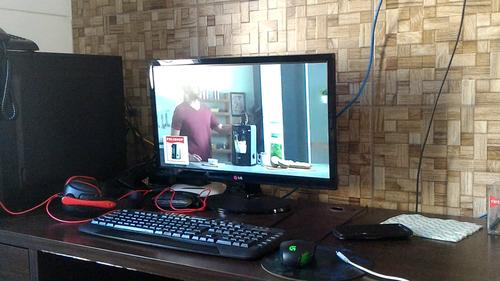Polishop #1: (162, 134, 190, 166)
